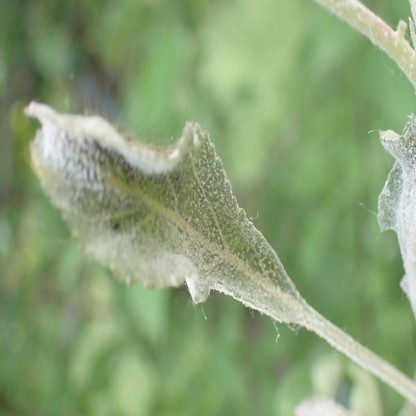powder: (24, 99, 296, 321), (378, 114, 416, 315)
